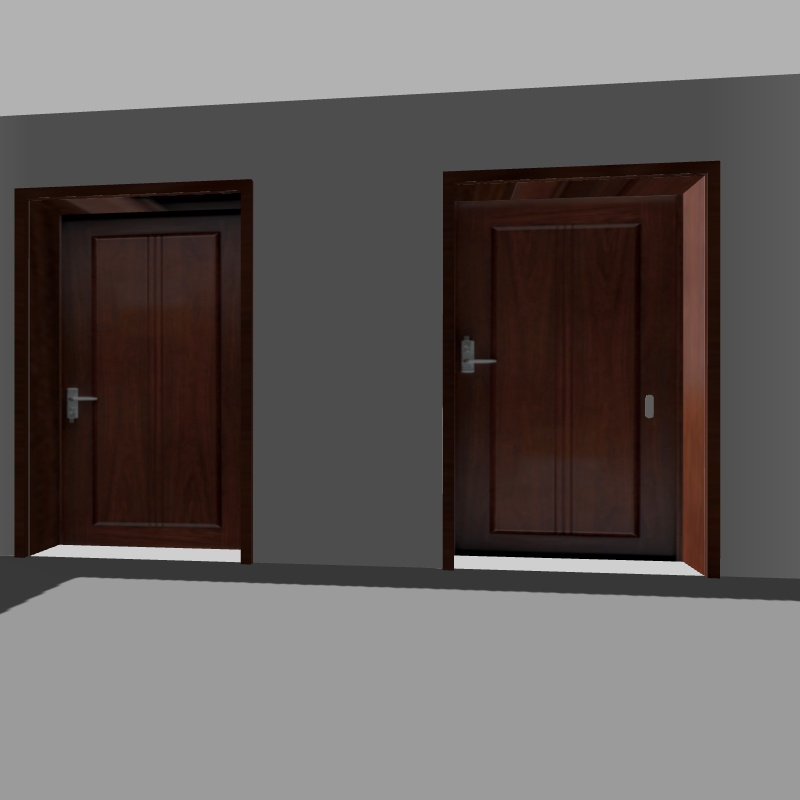handle: (451, 330, 507, 384), (55, 382, 106, 426)
